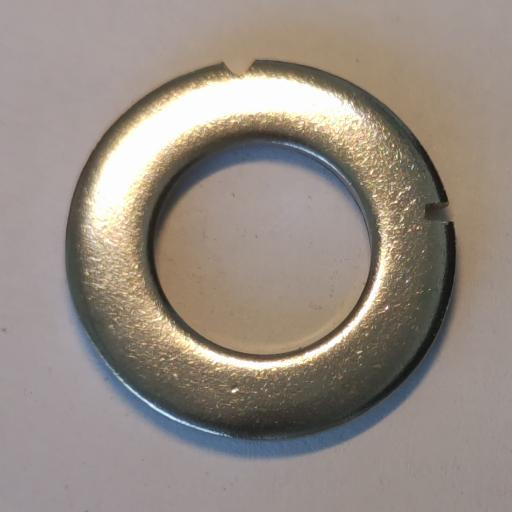burr: (222, 59, 258, 81), (424, 202, 453, 225)
